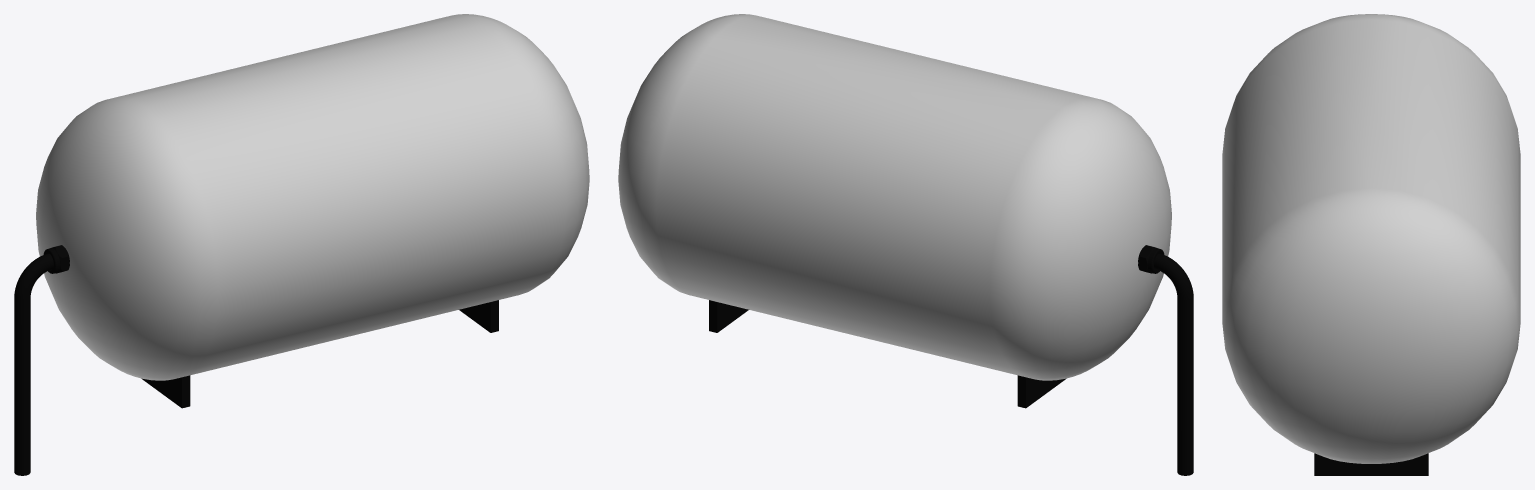
Rendered from Tank2.fbx.
3 views of the same model, side by side, from view 1: azimuth 30°, elevation 25°; view 2: azimuth 150°, elevation 25°; view 3: azimuth 270°, elevation 25° (orthographic). The views are drawn at different scales.
Visible parts, largest first — view 1: TANK, Rohr, Anschliss A, Anschluss B; view 2: TANK, Rohr, Anschliss A, Anschluss B; view 3: TANK, Anschluss B.
Boxes of the visible parts, x1=… form: TANK: x1=36, y1=14, x2=589, y2=380; Rohr: x1=14, y1=253, x2=53, y2=475; Anschliss A: x1=141, y1=375, x2=190, y2=408; Anschluss B: x1=459, y1=300, x2=498, y2=332; TANK: x1=618, y1=14, x2=1171, y2=380; Rohr: x1=1154, y1=253, x2=1193, y2=475; Anschliss A: x1=1017, y1=375, x2=1066, y2=408; Anschluss B: x1=709, y1=300, x2=748, y2=332; TANK: x1=1222, y1=14, x2=1520, y2=463; Anschluss B: x1=1314, y1=453, x2=1428, y2=475.
Size of the model in its own units: 657 by 384 by 300.
